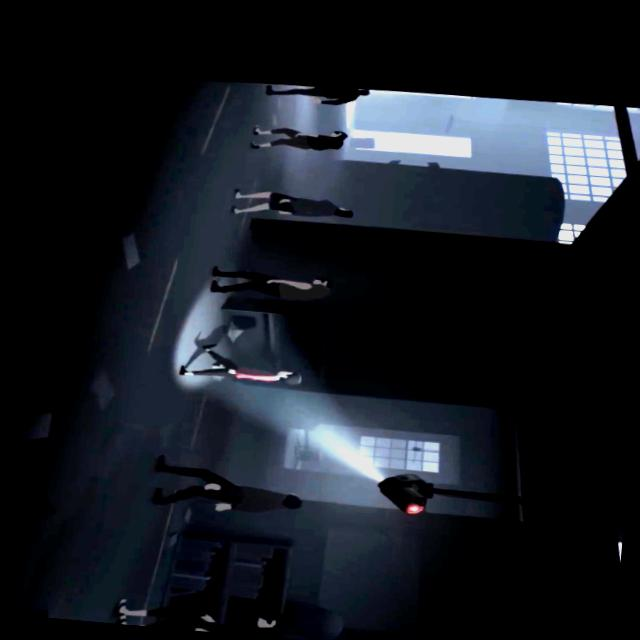boy: (175, 343, 304, 386)
zombie: (145, 457, 304, 518), (110, 596, 282, 638), (228, 186, 353, 224), (208, 264, 332, 302), (248, 122, 346, 154), (262, 81, 367, 106)
